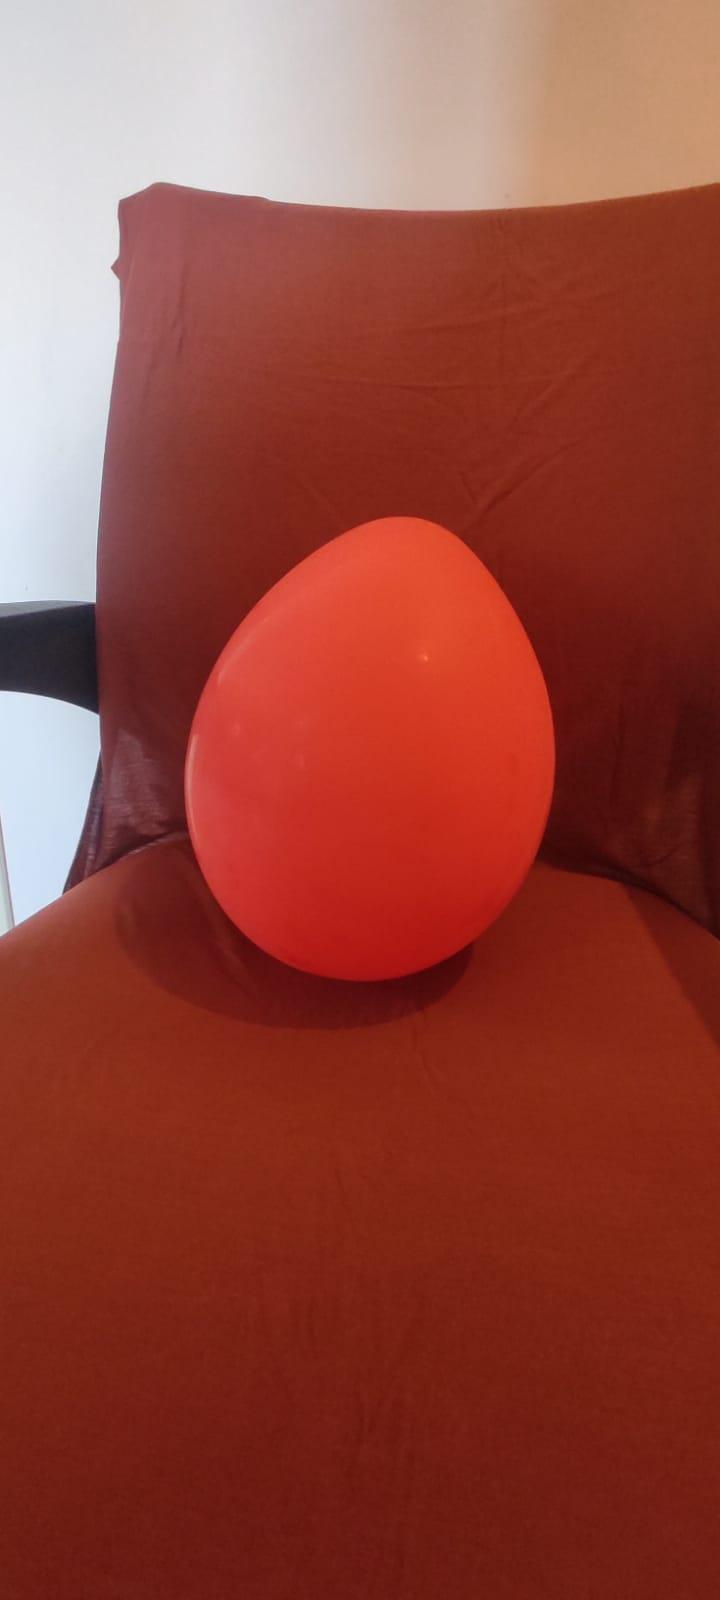red: (188, 504, 560, 971)
